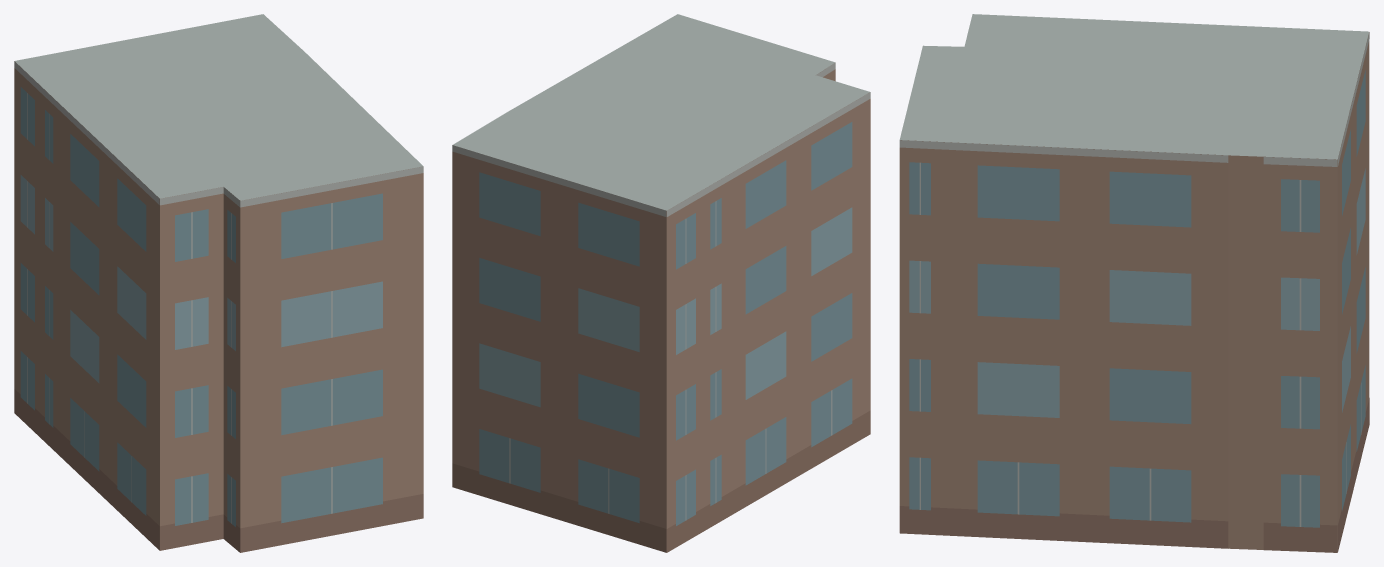
The model's file is survey-upis-32808996.glb.
3 views of the same model, side by side, from view 1: azimuth 30°, elevation 25°; view 2: azimuth 150°, elevation 25°; view 3: azimuth 270°, elevation 25° (orthographic). The views are drawn at different scales.
Parts seen in each view (by area): view 1: survey-upis-32808996.tmp; view 2: survey-upis-32808996.tmp; view 3: survey-upis-32808996.tmp.
Boxes of the visible parts, bbox=[...] form: survey-upis-32808996.tmp: bbox=[14, 14, 423, 552]; survey-upis-32808996.tmp: bbox=[452, 14, 870, 552]; survey-upis-32808996.tmp: bbox=[899, 14, 1369, 552].
Size of the model in its own units: 10.12 by 12.75 by 13.81.
